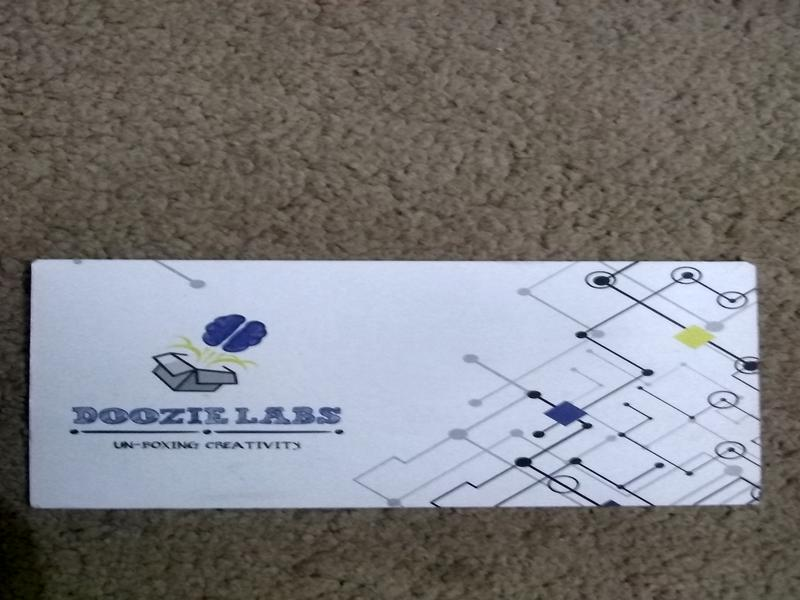back: (28, 260, 764, 507)
